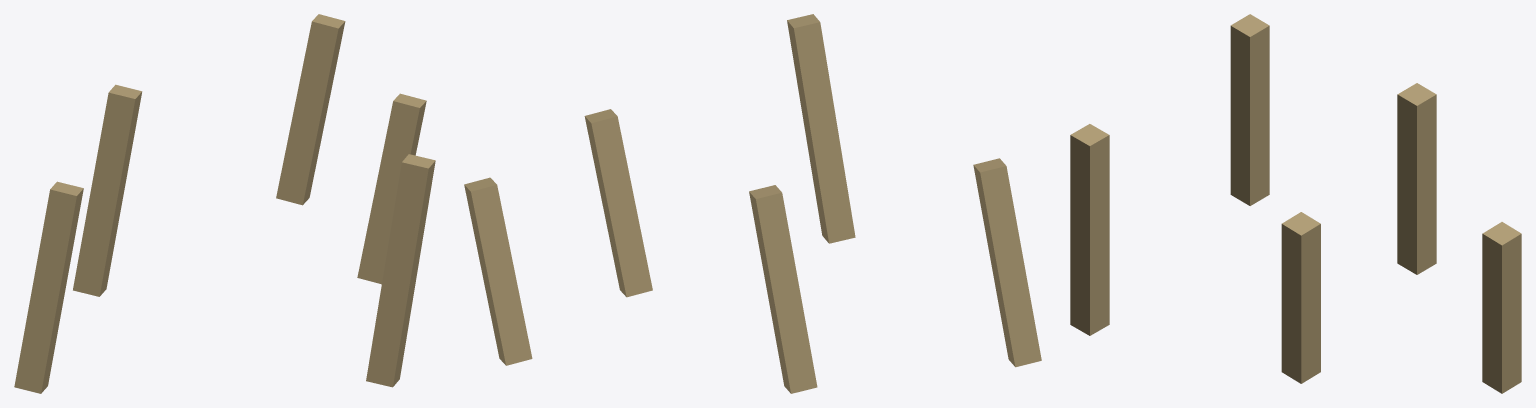
File: crop_flax_spent.glb
The picture shows the model from 3 angles, left to right: view 1: azimuth 30°, elevation 25°; view 2: azimuth 150°, elevation 25°; view 3: azimuth 270°, elevation 25°; orthographic projection.
Visible parts, largest first — view 1: crop_flax_spent; view 2: crop_flax_spent; view 3: crop_flax_spent.
Part boxes in pixels (x1,y1,x2,y2): crop_flax_spent: (14, 14, 435, 393); crop_flax_spent: (464, 14, 1041, 393); crop_flax_spent: (1070, 14, 1521, 393).
Bounding box in the file's own units: 0.32 × 0.1447 × 0.2765.
